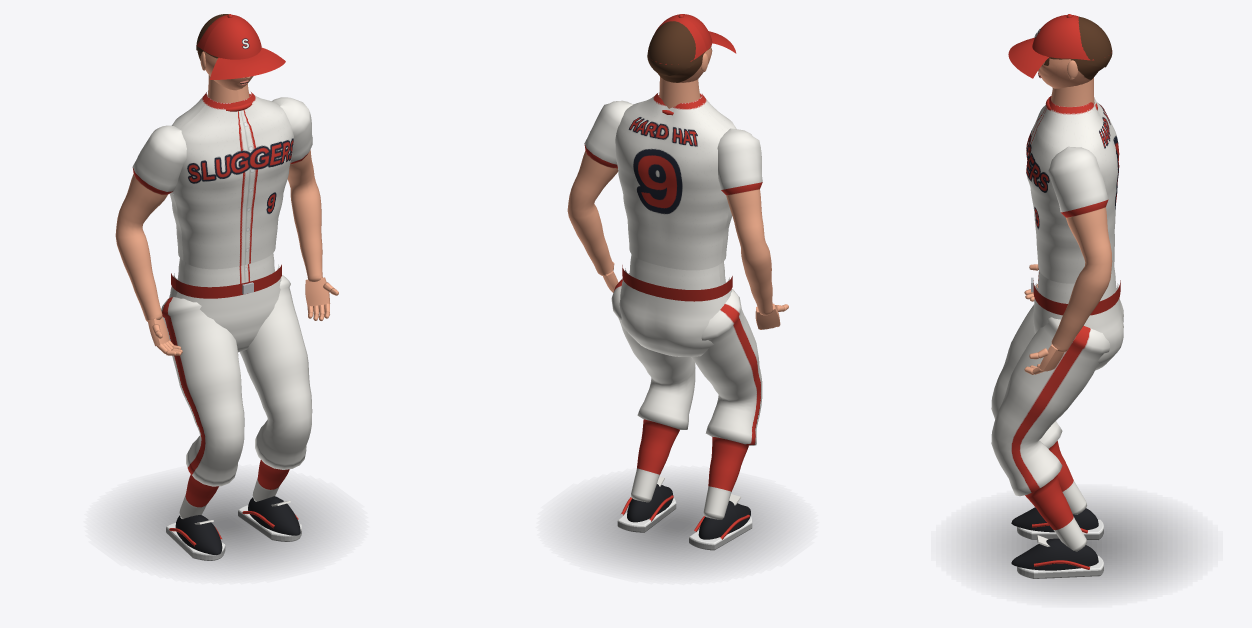
The model's file is player_32_home.glb.
The picture shows the model from 3 angles, left to right: view 1: azimuth 30°, elevation 25°; view 2: azimuth 150°, elevation 25°; view 3: azimuth 270°, elevation 25°; orthographic projection. The views are drawn at different scales.
Parts seen in each view (by area): view 1: player_32_home, object 30, object 32, object 2; view 2: player_32_home, object 29, object 2, object 30; view 3: player_32_home, object 30, object 29, object 34, object 32, object 2.
Boxes of the visible parts, <box> form: player_32_home: <box>115,91,334,570</box>; object 30: <box>196,14,261,59</box>; object 32: <box>209,47,285,79</box>; object 2: <box>207,75,249,102</box>; player_32_home: <box>567,93,785,570</box>; object 29: <box>647,21,711,76</box>; object 2: <box>659,77,700,108</box>; object 30: <box>652,14,712,64</box>; player_32_home: <box>966,96,1187,592</box>; object 30: <box>1032,14,1112,60</box>; object 29: <box>1049,16,1112,67</box>; object 34: <box>1038,58,1103,88</box>; object 32: <box>1008,37,1049,78</box>; object 2: <box>1051,77,1094,106</box>.
Bounding box in the file's own units: 3.43 × 6.35 × 3.43.
Materials: 26 (5 with a texture image).
